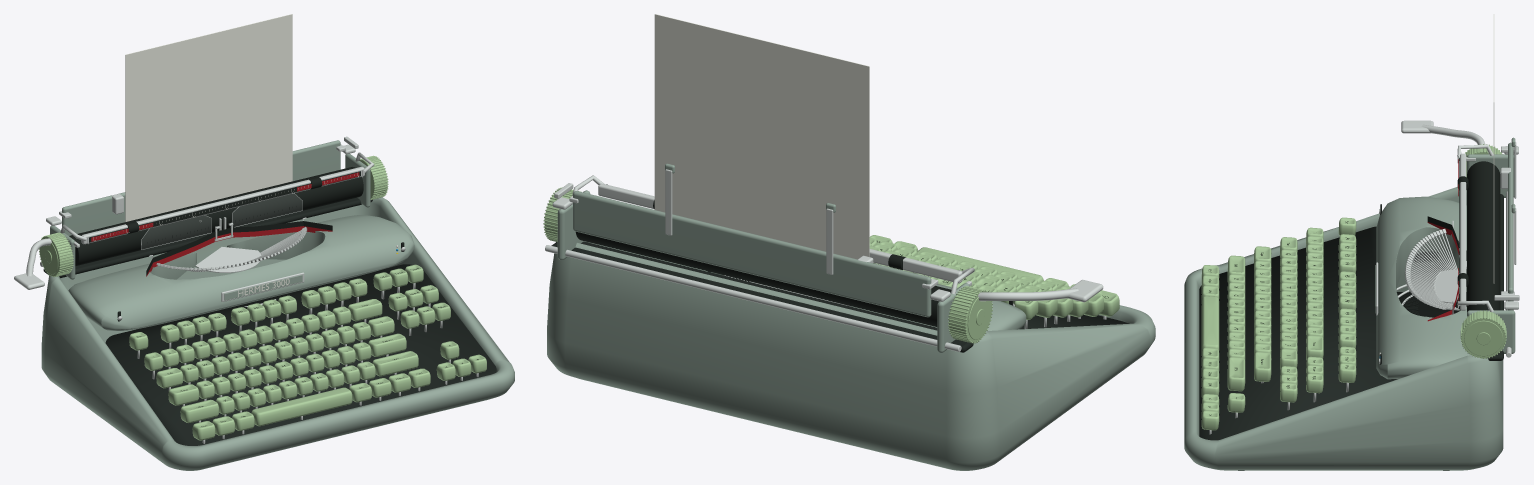
Rendered from hermes3000.glb.
3 views of the same model, side by side, from view 1: azimuth 30°, elevation 25°; view 2: azimuth 150°, elevation 25°; view 3: azimuth 270°, elevation 25° (orthographic). The views are drawn at different scales.
Parts seen in each view (by area): view 1: Paper, Cast_Perimeter, Ribbon_Hood, Black_Keyboard_Well, Platen, Paper_Table, Carriage_Frame, Cap_Space, Paper_Bail_Channel, Card_Holder_Right, Card_Holder_Left, Type_Guide_Shield (+12 smaller); view 2: Cast_Perimeter, Paper, Paper_Table, Carriage_Frame, Platen, Carriage_Rail, Paper_Bail_Channel, Ribbon_Hood, Black_Keyboard_Well, Carriage_End_Cheek_R, Return_Lever_Chrome, Platen_Knob_Left (+3 smaller); view 3: Cast_Perimeter, Black_Keyboard_Well, Ribbon_Hood, Platen, Paper_Bail_Channel, Knob_Face.001, Cap_Space, Paper_Table, Type_Guide_Shield, Bottom_Tray, Cap_ShiftRight, Platen_Knob_Right (+9 smaller).
Part boxes in pixels (bbox=[...]): Paper: bbox=[125, 14, 292, 221]; Cast_Perimeter: bbox=[41, 197, 514, 470]; Ribbon_Hood: bbox=[68, 215, 414, 330]; Black_Keyboard_Well: bbox=[105, 264, 496, 445]; Platen: bbox=[69, 167, 363, 266]; Paper_Table: bbox=[62, 140, 340, 235]; Carriage_Frame: bbox=[43, 197, 372, 277]; Cap_Space: bbox=[251, 387, 352, 426]; Paper_Bail_Channel: bbox=[81, 166, 364, 244]; Card_Holder_Right: bbox=[233, 194, 301, 226]; Card_Holder_Left: bbox=[142, 216, 210, 248]; Type_Guide_Shield: bbox=[195, 247, 261, 272]; Cast_Perimeter: bbox=[547, 243, 1155, 470]; Paper: bbox=[654, 14, 869, 259]; Paper_Table: bbox=[573, 191, 931, 317]; Carriage_Frame: bbox=[551, 241, 973, 352]; Platen: bbox=[575, 231, 951, 326]; Carriage_Rail: bbox=[545, 245, 961, 351]; Paper_Bail_Channel: bbox=[598, 183, 962, 283]; Ribbon_Hood: bbox=[588, 242, 1026, 331]; Black_Keyboard_Well: bbox=[1020, 314, 1128, 329]; Carriage_End_Cheek_R: bbox=[557, 190, 590, 260]; Return_Lever_Chrome: bbox=[978, 288, 1078, 301]; Platen_Knob_Left: bbox=[949, 288, 991, 342]; Cast_Perimeter: bbox=[1184, 187, 1503, 470]; Black_Keyboard_Well: bbox=[1199, 226, 1387, 440]; Ribbon_Hood: bbox=[1376, 196, 1470, 379]; Platen: bbox=[1467, 161, 1500, 311]; Paper_Bail_Channel: bbox=[1460, 153, 1466, 310]; Knob_Face.001: bbox=[1464, 320, 1503, 356]; Cap_Space: bbox=[1201, 296, 1219, 355]; Paper_Table: bbox=[1508, 142, 1513, 310]; Type_Guide_Shield: bbox=[1434, 269, 1459, 303]; Bottom_Tray: bbox=[1387, 292, 1466, 382]; Cap_ShiftRight: bbox=[1227, 357, 1245, 391]; Platen_Knob_Right: bbox=[1461, 311, 1505, 358].
Size of the model in its own units: 0.534 by 0.3985 by 0.3595.
